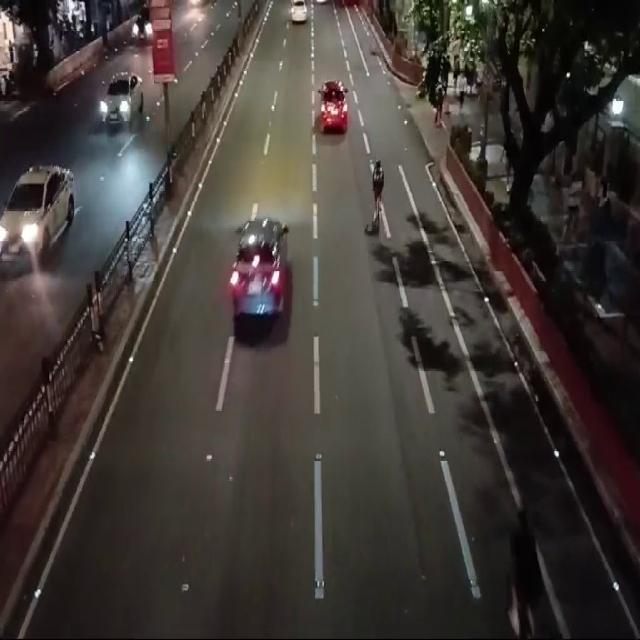car: (218, 178, 295, 362), (0, 138, 91, 280), (92, 70, 148, 140), (313, 68, 362, 146), (284, 0, 311, 27)
